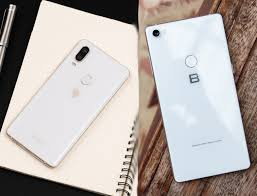bphone: (141, 9, 251, 184)
